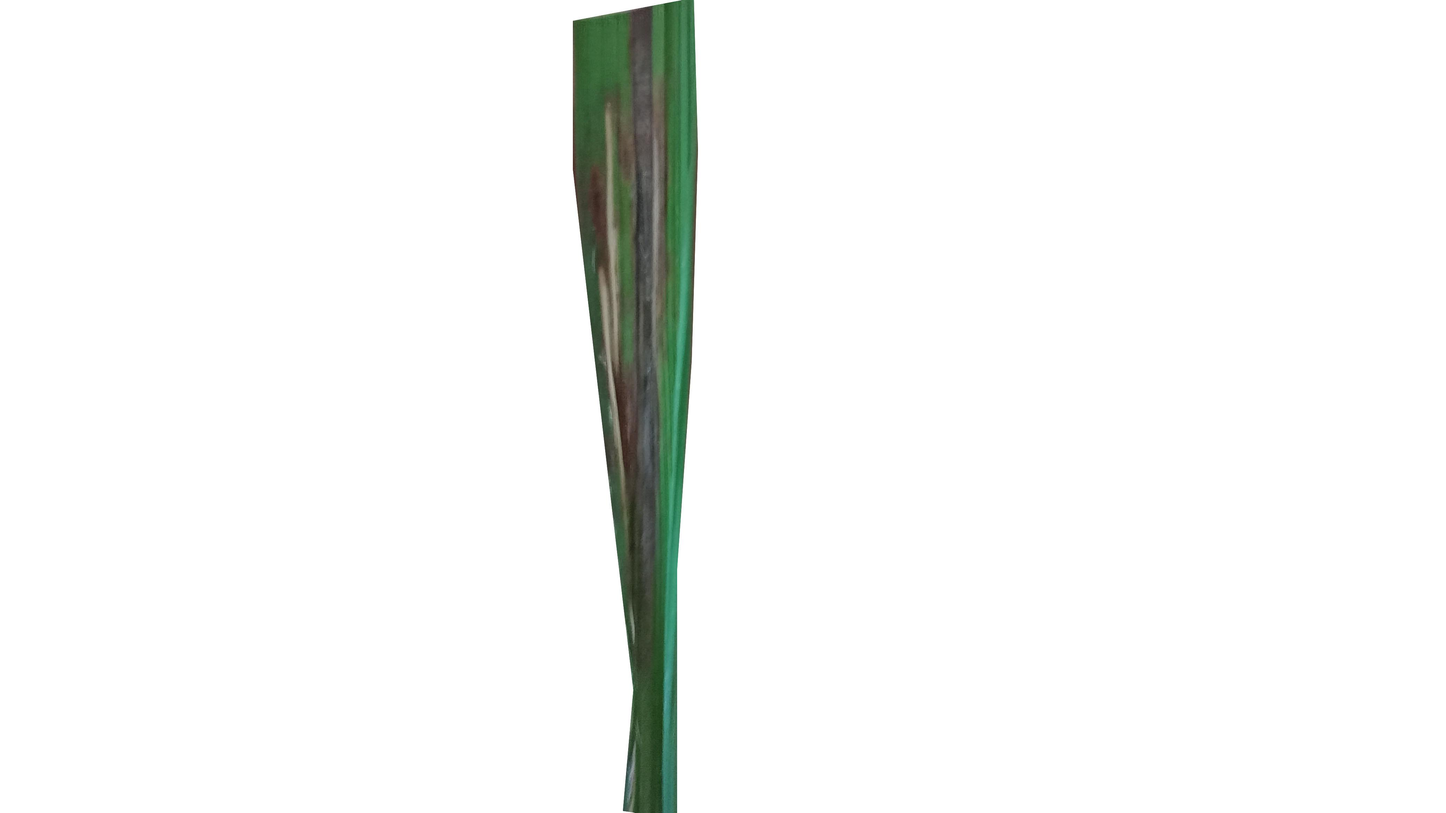Blight: (586, 14, 687, 646)
